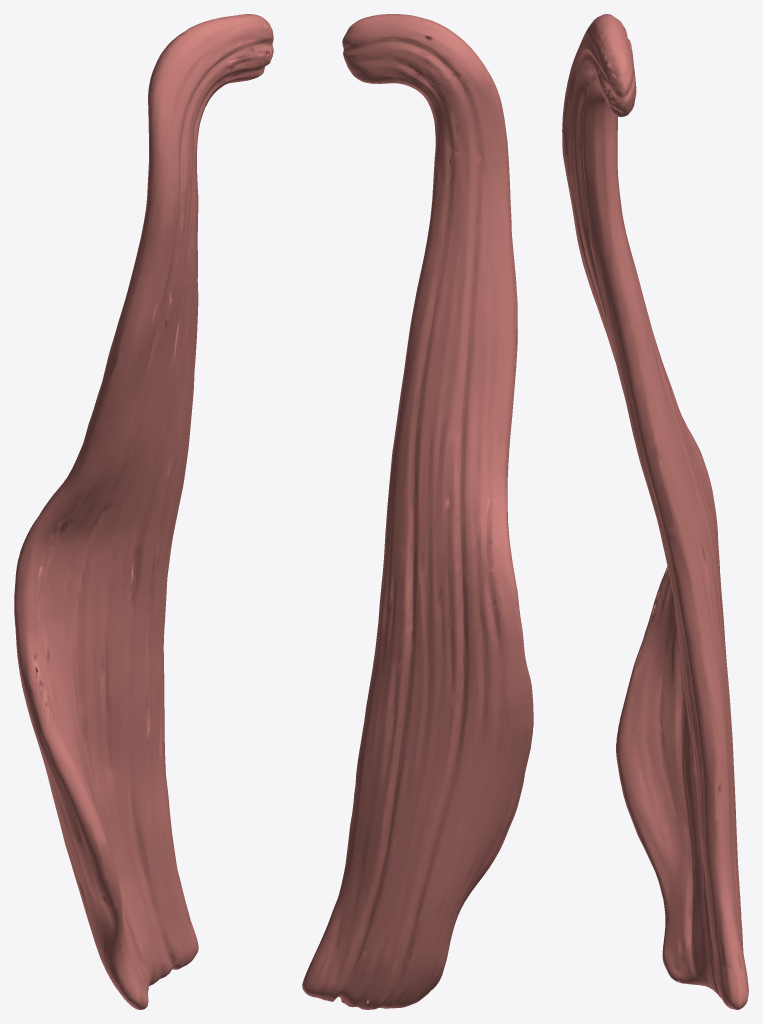
The picture shows the model from 3 angles, left to right: view 1: azimuth 30°, elevation 25°; view 2: azimuth 150°, elevation 25°; view 3: azimuth 270°, elevation 25°; orthographic projection. The views are drawn at different scales.
Parts seen in each view (by area): view 1: ZA_060cee0a14679b3d; view 2: ZA_060cee0a14679b3d; view 3: ZA_060cee0a14679b3d.
Boxes of the visible parts, x1,y1,x2,y2 form: ZA_060cee0a14679b3d: [14, 14, 273, 1009]; ZA_060cee0a14679b3d: [302, 14, 533, 1009]; ZA_060cee0a14679b3d: [562, 14, 748, 1009].
Size of the model in its own units: 0.0205 by 0.088 by 0.0153.
